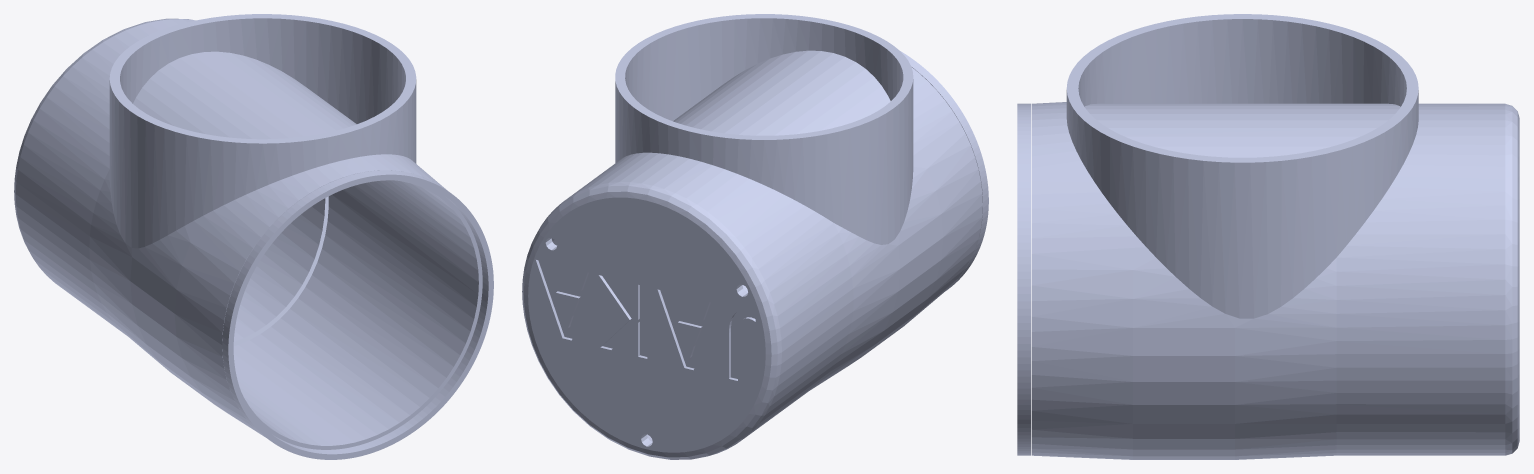
The model's file is jaka4.fbx.
3 renders of one model, left to right at view 1: azimuth 30°, elevation 25°; view 2: azimuth 150°, elevation 25°; view 3: azimuth 270°, elevation 25°, orthographic. The views are drawn at different scales.
Visible parts, largest first — view 1: _2, _5; view 2: _2, _5; view 3: _2, _5.
Boxes of the visible parts, bbox=[...] form: _2: bbox=[14, 14, 482, 449]; _5: bbox=[222, 170, 493, 459]; _2: bbox=[522, 14, 982, 459]; _5: bbox=[900, 51, 988, 290]; _2: bbox=[1031, 14, 1519, 459]; _5: bbox=[1017, 103, 1030, 455].
Size of the model in its own units: 76.88 by 83.44 by 107.
